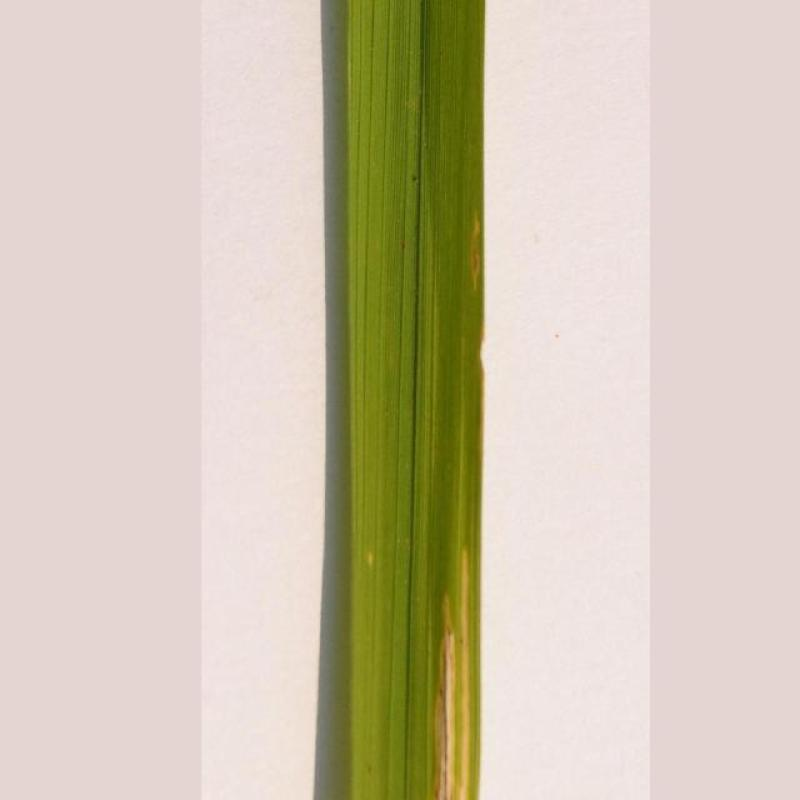Bacterial_Leaf_Blight: (429, 536, 490, 800), (445, 201, 495, 289)
